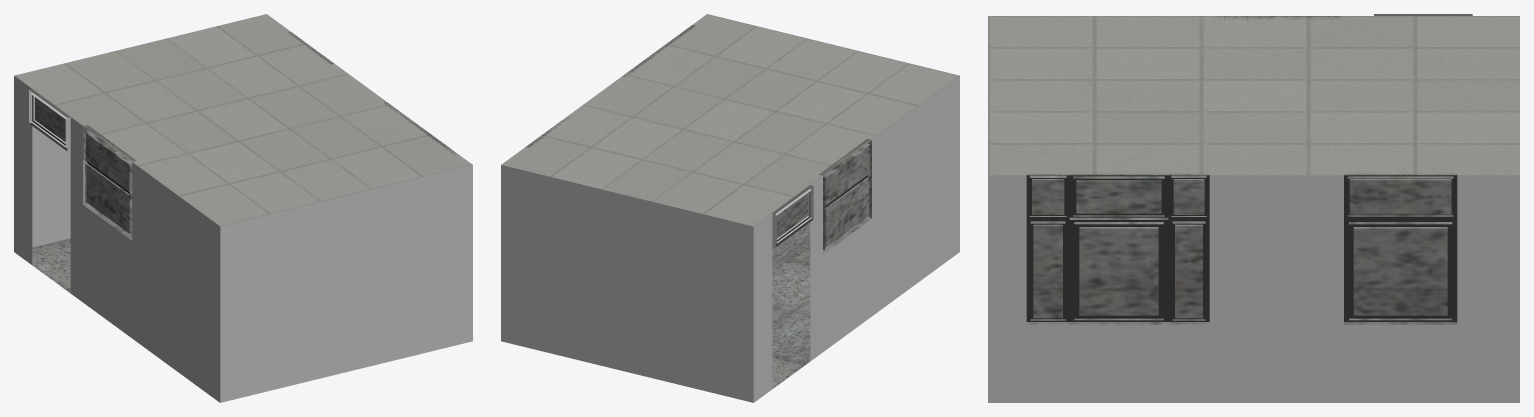
The model's file is entorno.fbx.
3 renders of one model, left to right at view 1: azimuth 30°, elevation 25°; view 2: azimuth 150°, elevation 25°; view 3: azimuth 270°, elevation 25°, orthographic. The views are drawn at different scales.
Visible parts, largest first — view 1: Cube; view 2: Cube; view 3: Cube.
Boxes of the visible parts, box(x1,y1,x2,y2) form: Cube: box(14, 14, 472, 402); Cube: box(501, 14, 959, 402); Cube: box(988, 14, 1519, 402).
Size of the model in its own units: 304 by 200 by 423.
